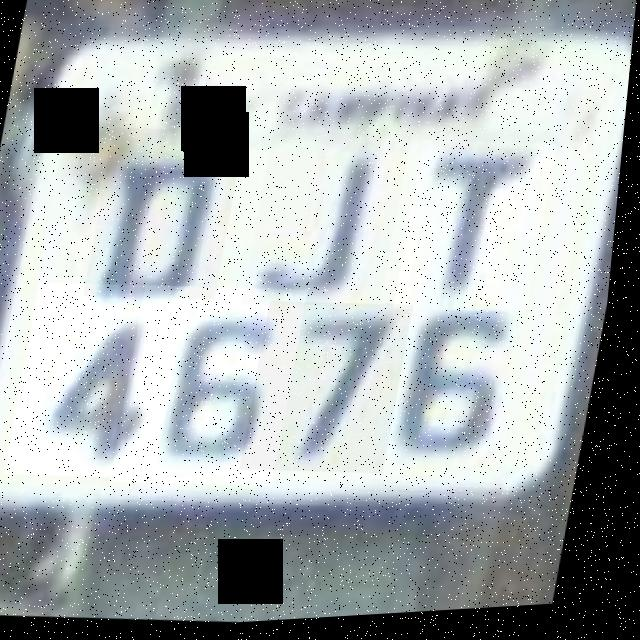4: (12, 275, 196, 488)
6: (118, 280, 315, 497), (359, 289, 545, 510)
7: (248, 298, 420, 485)
J: (247, 128, 416, 319)
O: (88, 122, 249, 308)
T: (398, 139, 561, 325)
